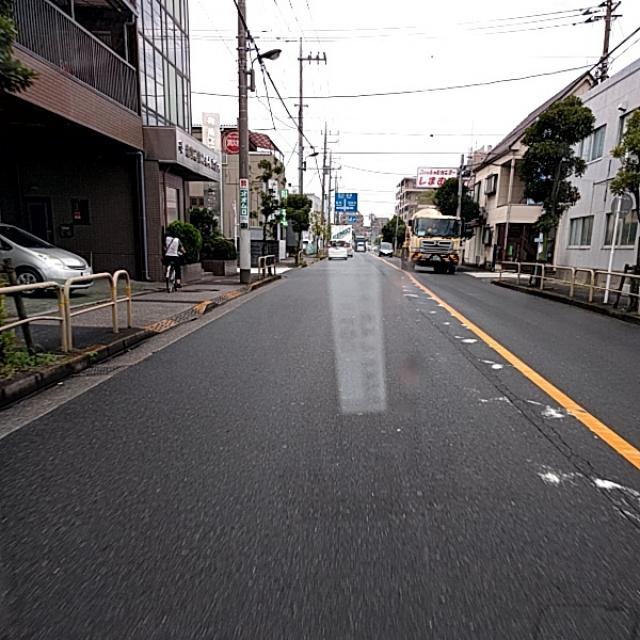pothole: (538, 406, 596, 484)
